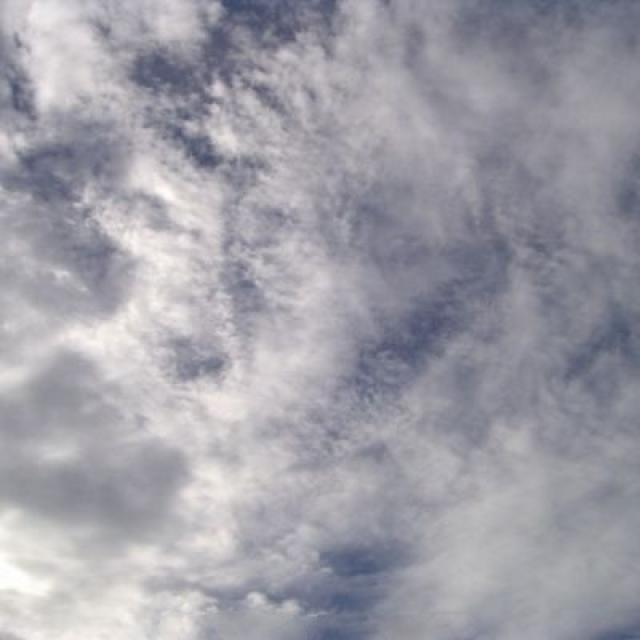Cc: (1, 1, 640, 589)
